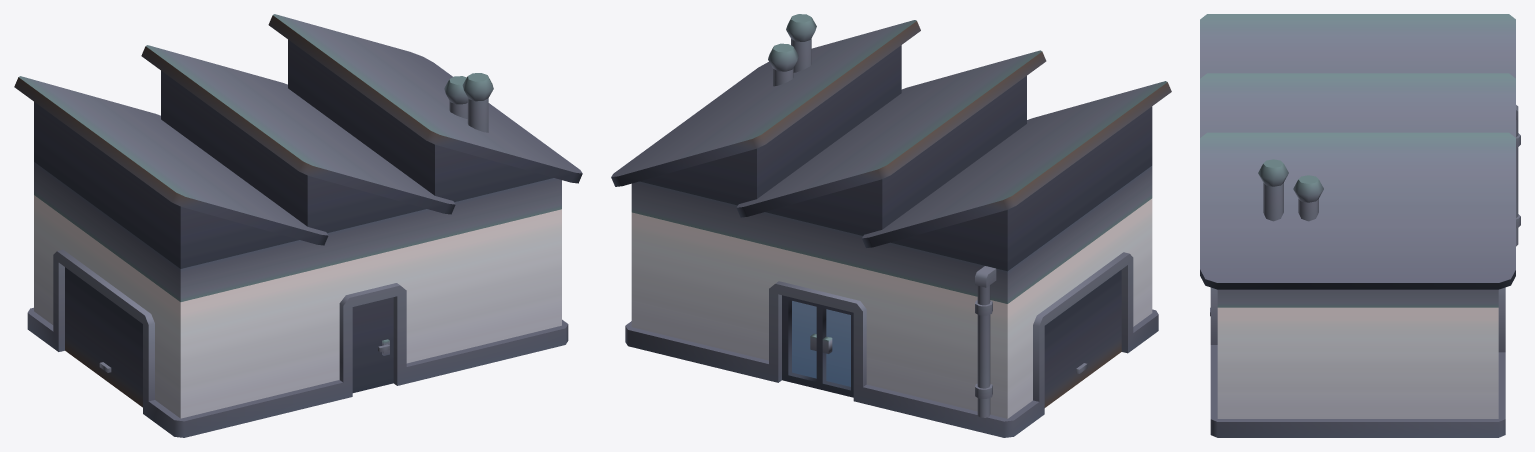
File: ind_building_k.glb
3 renders of one model, left to right at view 1: azimuth 30°, elevation 25°; view 2: azimuth 150°, elevation 25°; view 3: azimuth 270°, elevation 25°, orthographic. The views are drawn at different scales.
Visible parts, largest first — view 1: building-k; view 2: building-k; view 3: building-k.
Boxes of the visible parts, x1=… form: building-k: x1=14, y1=14, x2=582, y2=437; building-k: x1=611, y1=14, x2=1171, y2=437; building-k: x1=1200, y1=14, x2=1520, y2=437.
Bounding box in the file's own units: 1.3 × 0.7727 × 0.9136.
1 material, 1 textured.
